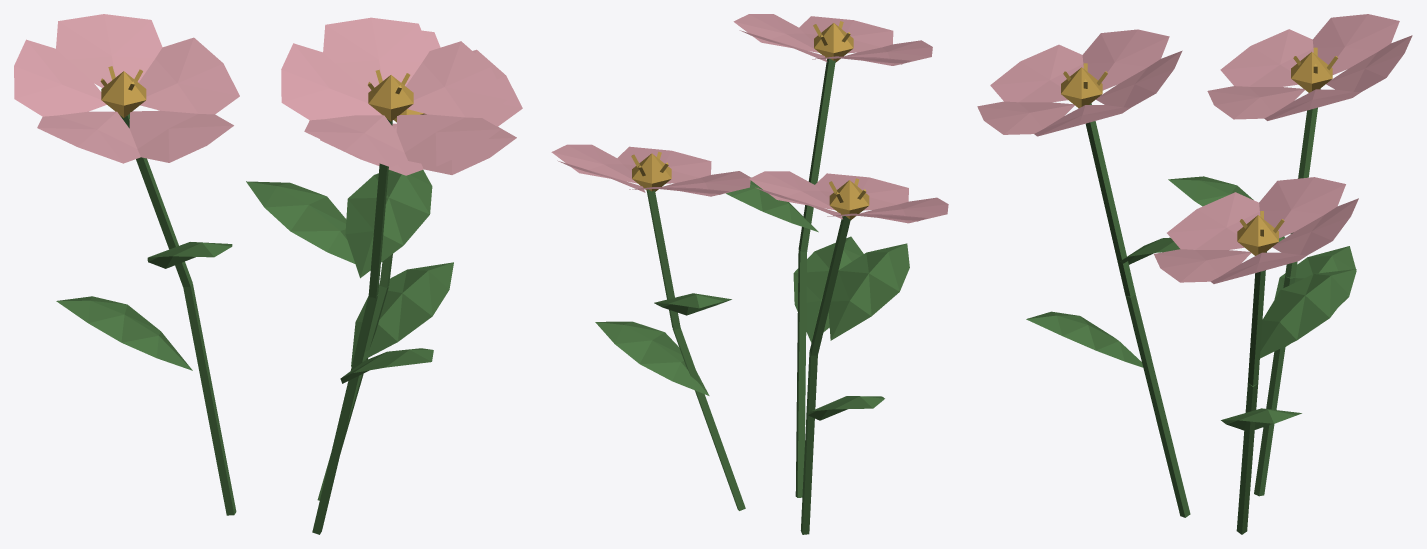
Rendered from flower_summer_d.glb.
3 renders of one model, left to right at view 1: azimuth 30°, elevation 25°; view 2: azimuth 150°, elevation 25°; view 3: azimuth 270°, elevation 25°, orthographic. The views are drawn at different scales.
Parts seen in each view (by area): view 1: plant; view 2: plant; view 3: plant.
Part boxes in pixels (x1,y1,x2,y2): plant: [14, 14, 522, 534]; plant: [551, 14, 948, 534]; plant: [977, 14, 1412, 534].
Bounding box in the file's own units: 0.3062 × 0.33 × 0.2775.
